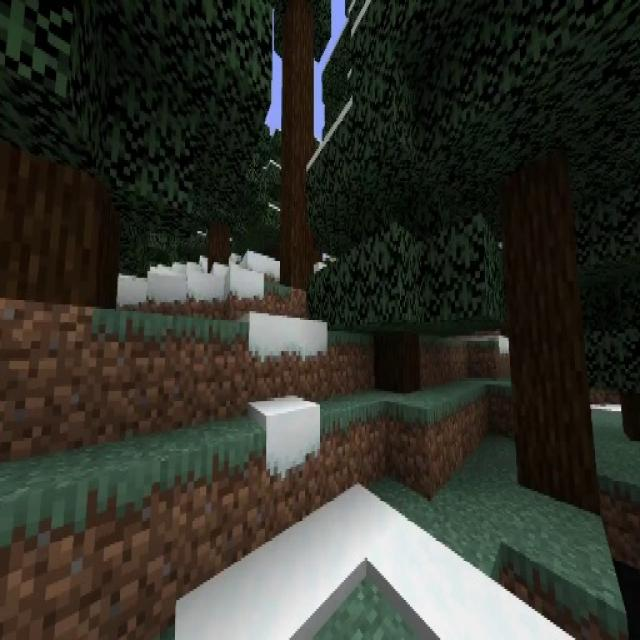spruce: (308, 0, 498, 394)
spruce_log: (504, 149, 600, 509), (0, 153, 111, 314), (282, 13, 316, 289), (374, 331, 420, 397), (209, 221, 230, 273)
